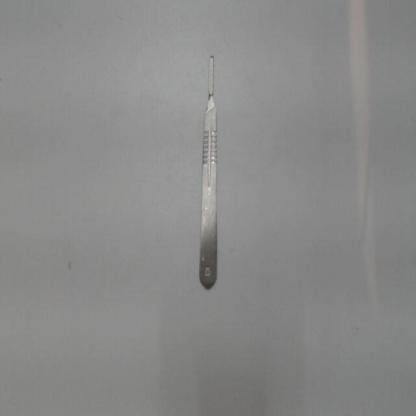No.4 BP Handle: (192, 51, 224, 297)
